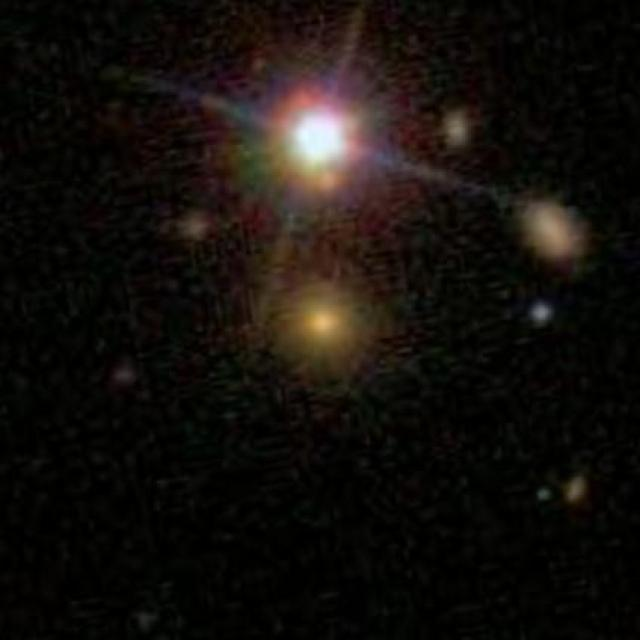galaxy: (268, 280, 398, 389), (515, 195, 602, 279), (430, 109, 484, 159), (172, 202, 216, 247), (559, 473, 593, 508), (526, 296, 559, 332), (109, 365, 140, 386), (535, 484, 560, 509)
star: (124, 1, 561, 378)
